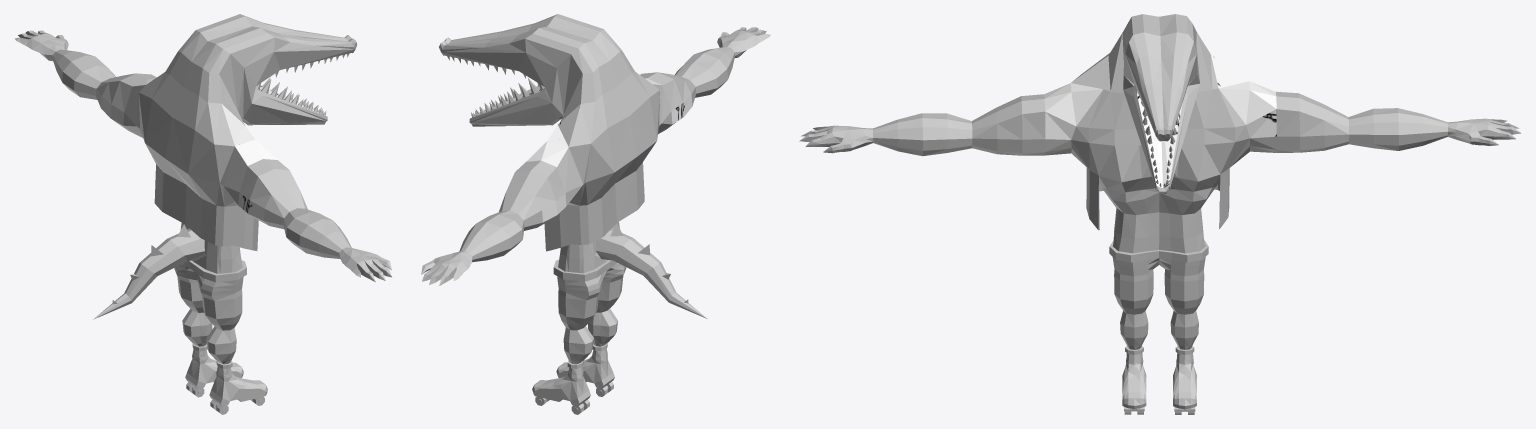
Rendered from cocodrila.obj.
3 renders of one model, left to right at view 1: azimuth 30°, elevation 25°; view 2: azimuth 150°, elevation 25°; view 3: azimuth 270°, elevation 25°, orthographic. The views are drawn at different scales.
Visible parts, largest first — view 1: Cylinder.001; view 2: Cylinder.001; view 3: Cylinder.001.
Boxes of the visible parts, x1,y1,x2,y2 form: Cylinder.001: (14, 14, 391, 414); Cylinder.001: (421, 14, 770, 414); Cylinder.001: (799, 14, 1521, 414).
Size of the model in its own units: 5.08 by 6.77 by 11.47.
